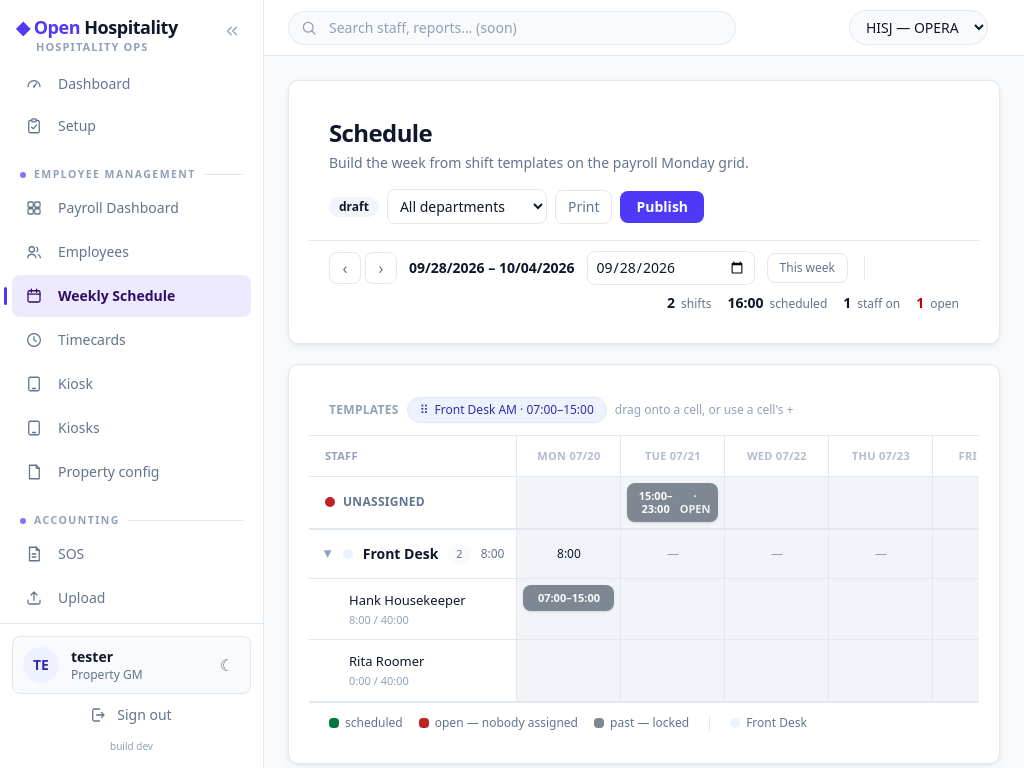
Test: SchedulePage › publishes the week and re-renders the bumped version
The image size is (1024, 768).
expect the element named "week grid" is shown: met, box [288, 364, 1000, 764]
expect the text "draft" is shown: met, box [329, 196, 379, 216]
Click the button "Publish".
click(662, 206)  # box [620, 190, 704, 222]
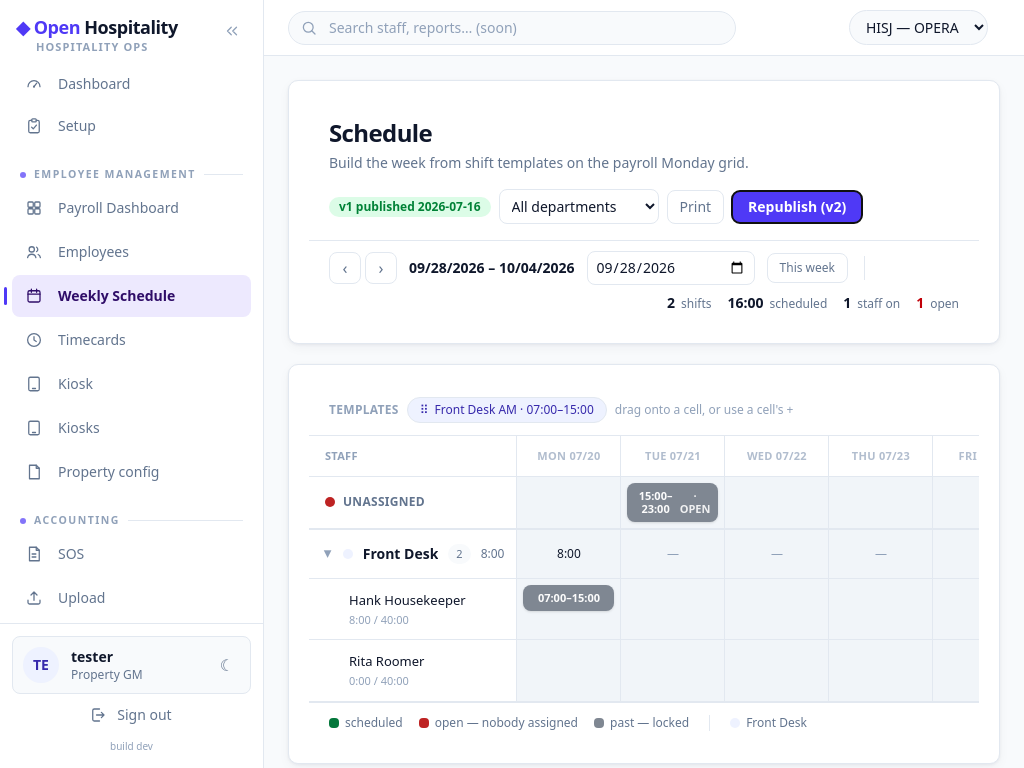
expect the text "v1 published 2026-07-16" is shown: met, box [329, 196, 490, 216]
expect the button "Republish (v2)" is shown: met, box [732, 190, 862, 222]
